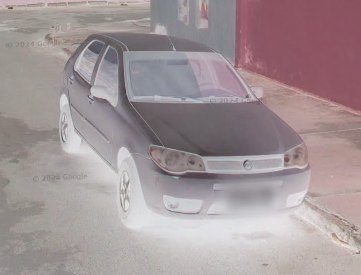car: (61, 32, 313, 248)
